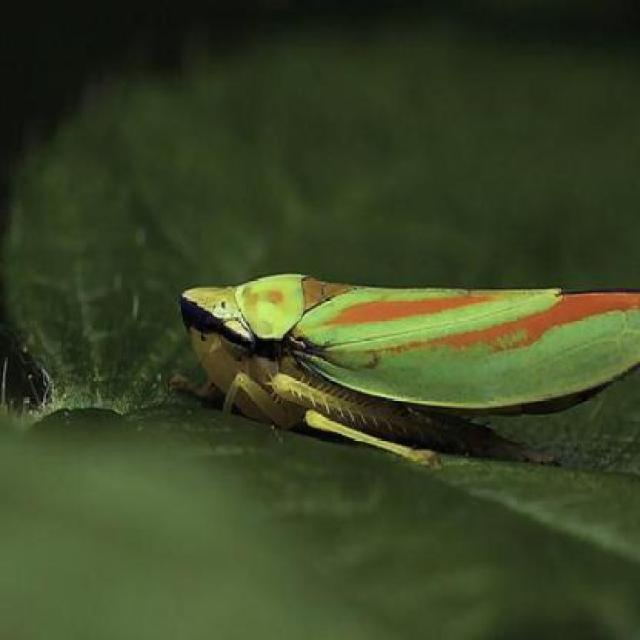green-leafhopper: (166, 258, 640, 462)
